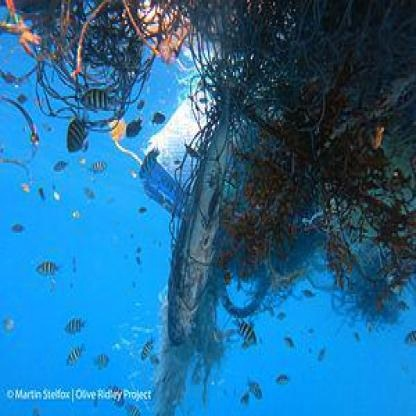net: (215, 2, 416, 127), (21, 2, 147, 105)
